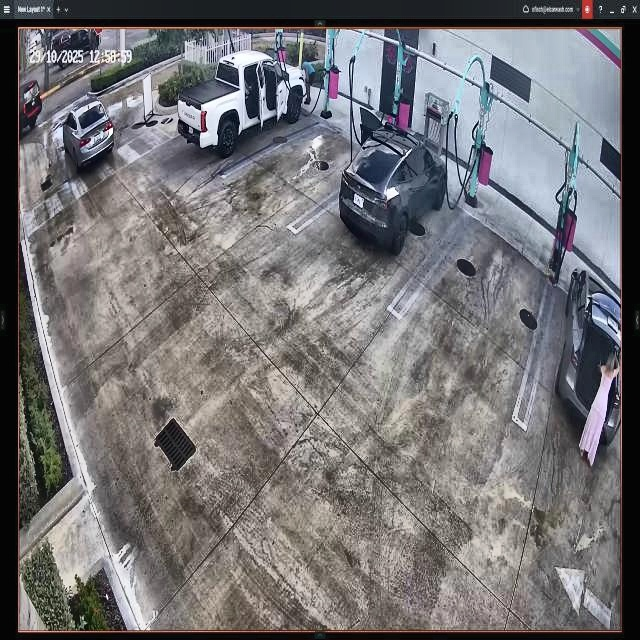Car: (178, 48, 304, 157), (339, 123, 447, 249)
